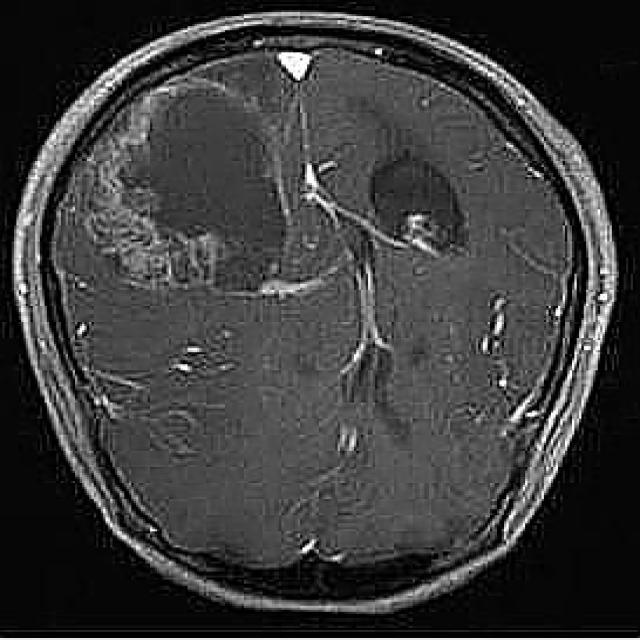Tumor-Cell: (111, 85, 334, 304)
